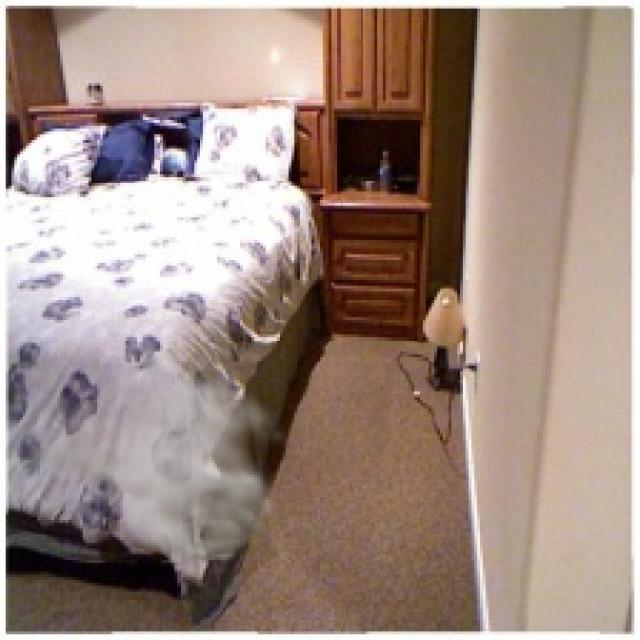smoke: (23, 363, 303, 580)
